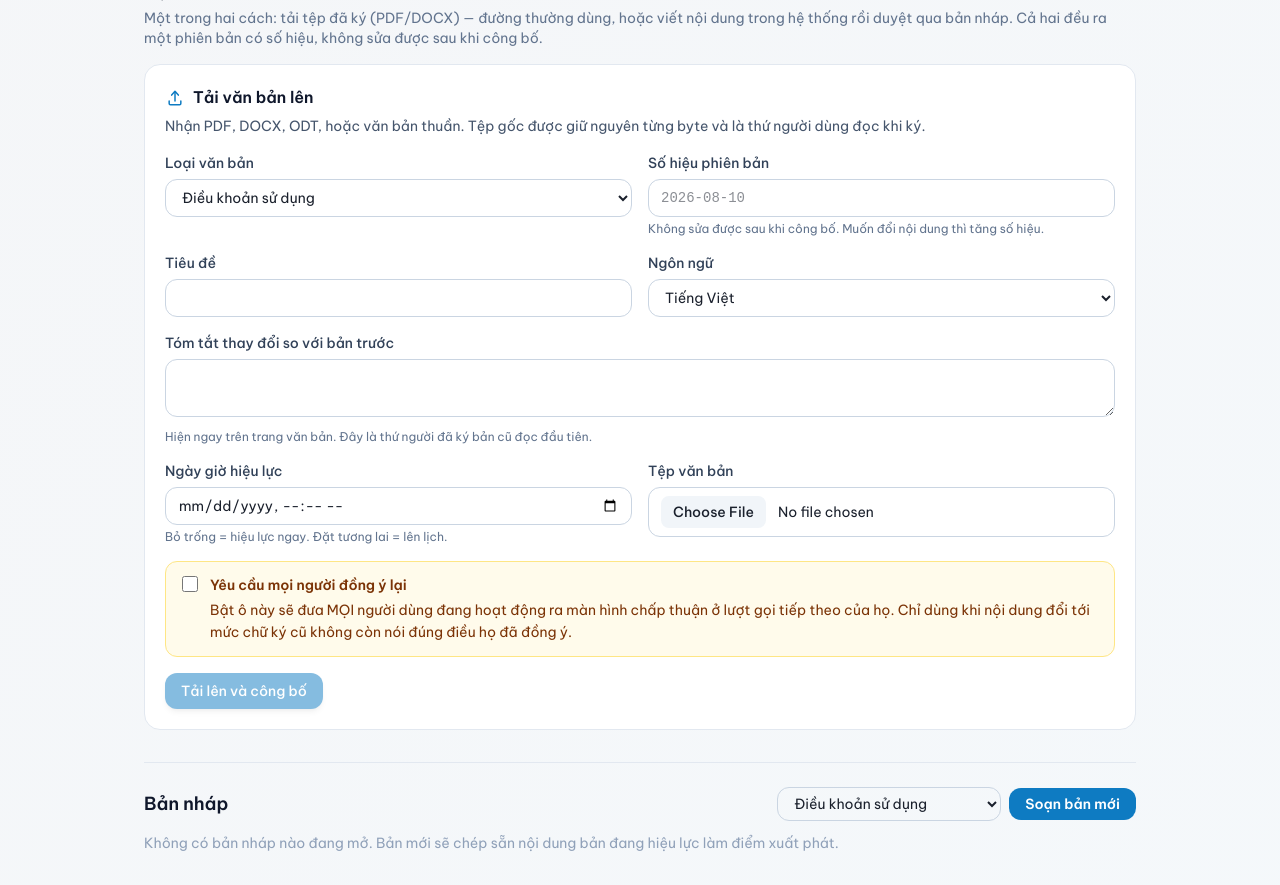
Test: AdminLegalPage › mở bản nháp mới và hiển thị trình soạn thảo
(page scrolled)
Expected: the heading "Bản nháp" is shown, 144,790 -> 228,818
Click the button "Soạn bản mới" at [1073, 804], box 1009,788 -> 1136,820
(page scrolled)
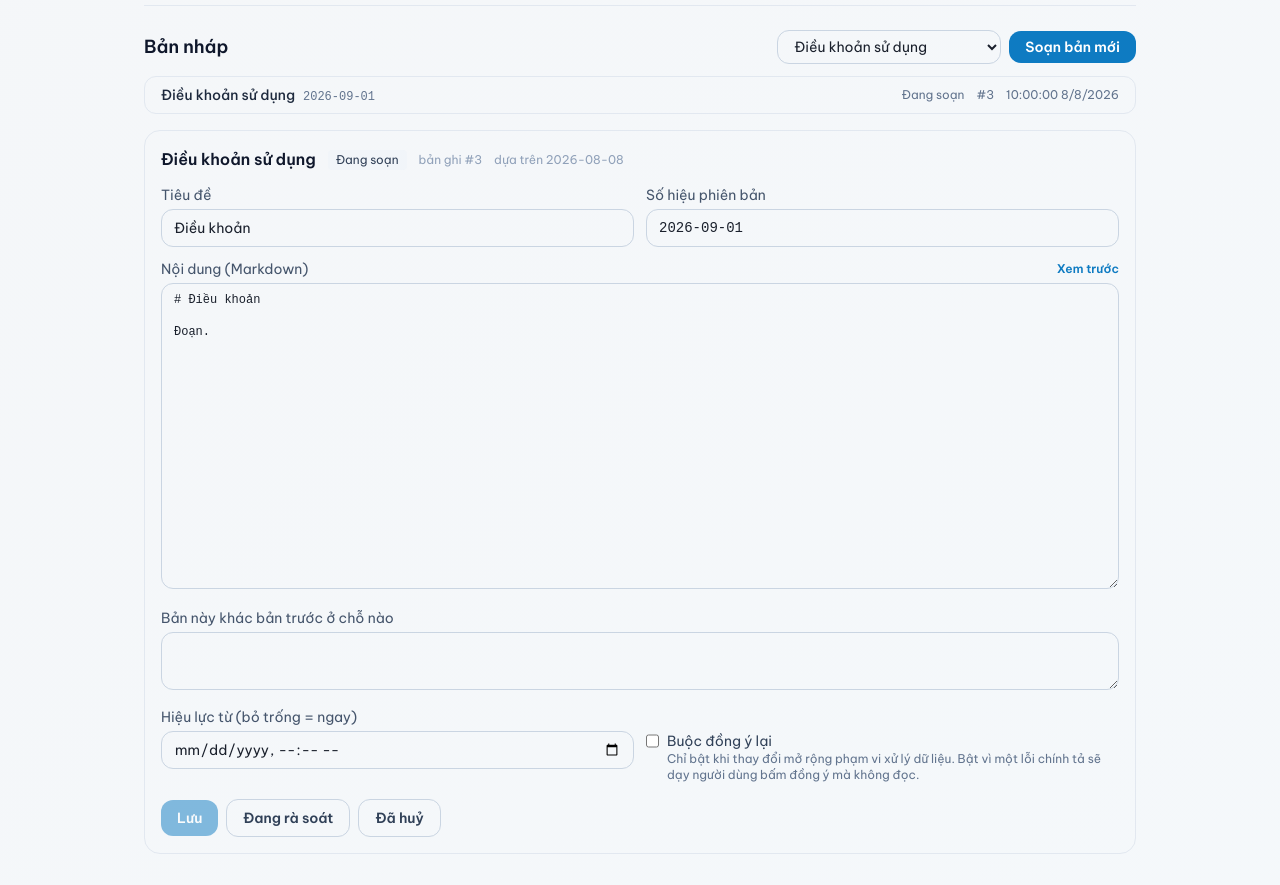
Result: the text box named "Nội dung" is shown at 161,283 -> 1119,589
